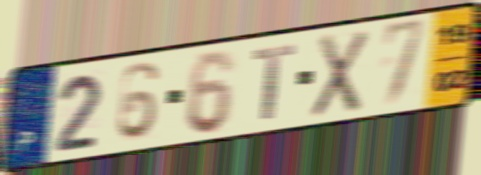2: (49, 67, 109, 158)
6: (183, 47, 239, 137), (114, 60, 163, 144)
7: (377, 15, 427, 114)
T: (251, 42, 297, 123)
X: (308, 27, 372, 121)
